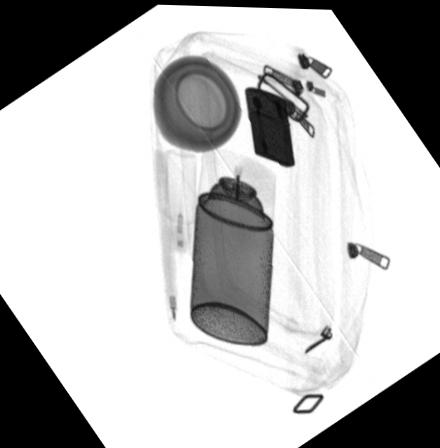Lighter: (244, 85, 293, 164)
Sprayer: (189, 147, 275, 343)
